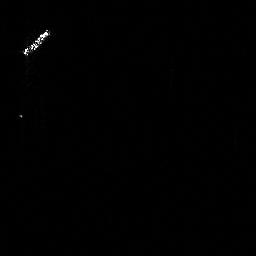ship: (19, 26, 56, 58)
